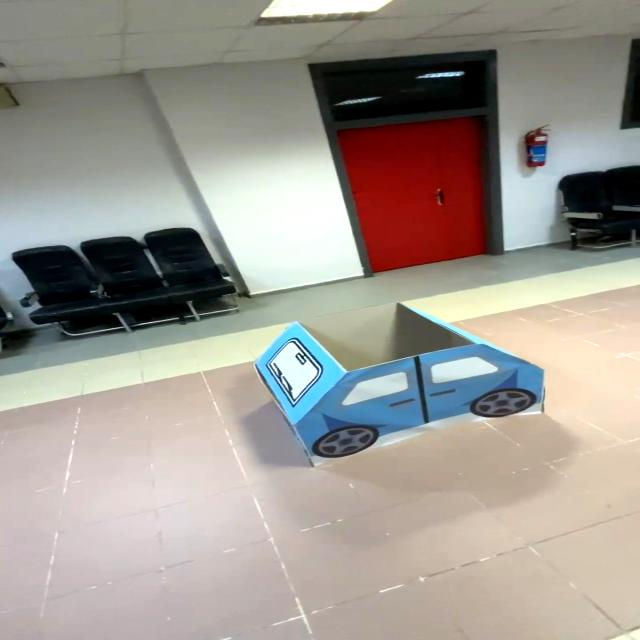blue_car: (221, 281, 583, 475)
